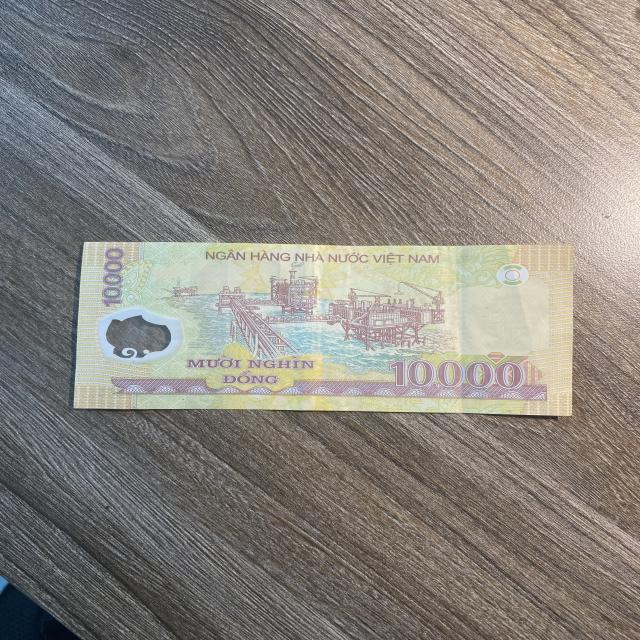10 000 VND: (68, 239, 576, 418)
